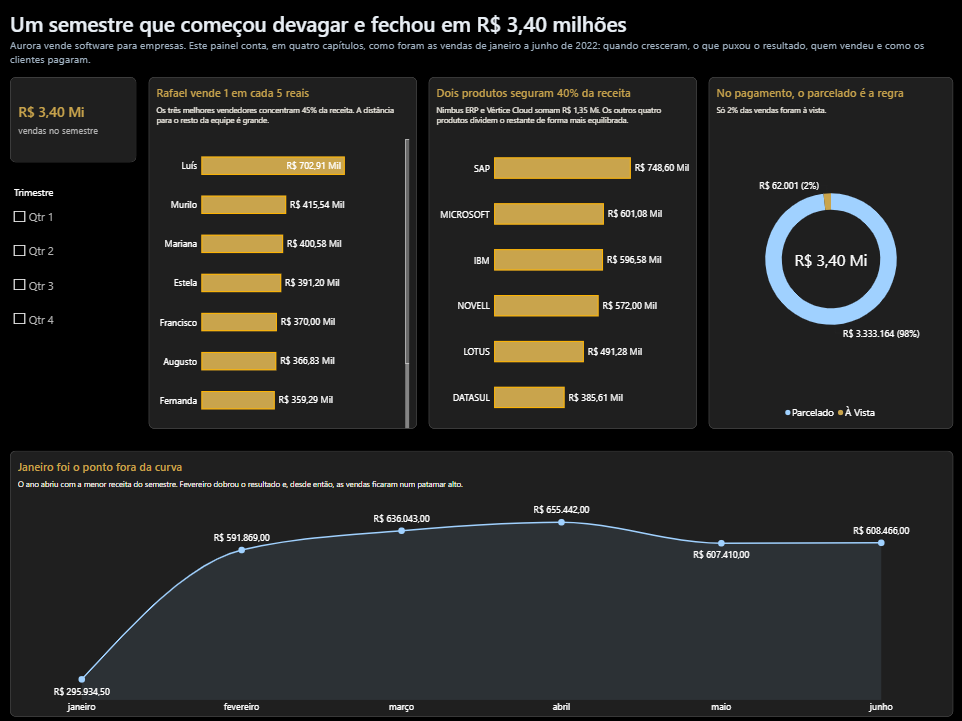

What the dashboard file says about the page in this screenshot:
{"tool":"powerbi","page":{"name":"Overview","canvas":[2000,1500],"ordinal":0},"visuals":[{"type":"cardVisual","fields":{"Data":["Consultores.Total"]},"box":[30.7,163.6,259.7,175],"z":0},{"type":"barChart","title":"Rafael vende 1 em cada 5 reais","fields":{"Category":["Consultores.Vendedor"],"Y":["Consultores.Total"]},"box":[314.6,163.6,549.6,720.9],"z":1000},{"type":"lineChart","title":"Janeiro foi o ponto fora da curva","fields":{"Category":["Consultores.Data.Variação.Hierarquia de datas.Mês"],"Y":["Consultores.Total"]},"box":[30,930,1932.5,545],"z":2000},{"type":"barChart","title":"Dois produtos seguram 40% da receita","fields":{"Category":["Consultores.Item"],"Y":["Consultores.Total"]},"box":[888.4,163.6,549.6,720.9],"z":3000},{"type":"donutChart","title":"No pagamento, o parcelado é a regra","fields":{"Category":["Consultores.Pagamento"],"Y":["Consultores.Total"]},"box":[1462.2,163.6,501,720.9],"z":4000},{"type":"slicer","fields":{"Values":["Consultores.Data.Variação.Hierarquia de datas.Trimestre"]},"box":[30,386.7,260,473.3],"z":5000},{"type":"textbox","box":[30.7,25,1932.5,175],"z":6000}]}

Visuals, with their boxes in screenshot pixels (x1, y1, x2, y2), scaled from the page's 2000x1500 canvas onto the 962x721 screenshot:
cardVisual - Consultores.Total: 15:79:140:163
"Rafael vende 1 em cada 5 reais" barChart: 151:79:416:425
"Janeiro foi o ponto fora da curva" lineChart: 14:447:944:709
"Dois produtos seguram 40% da receita" barChart: 427:79:692:425
"No pagamento, o parcelado é a regra" donutChart: 703:79:944:425
slicer - Consultores.Data.Variação.Hierarquia de datas.Trimestre: 14:186:139:413
textbox: 15:12:944:96
